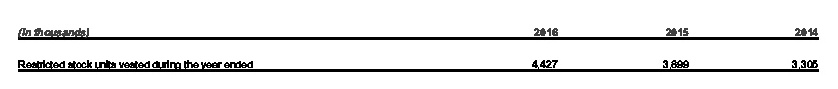table: (0, 0, 838, 89)
